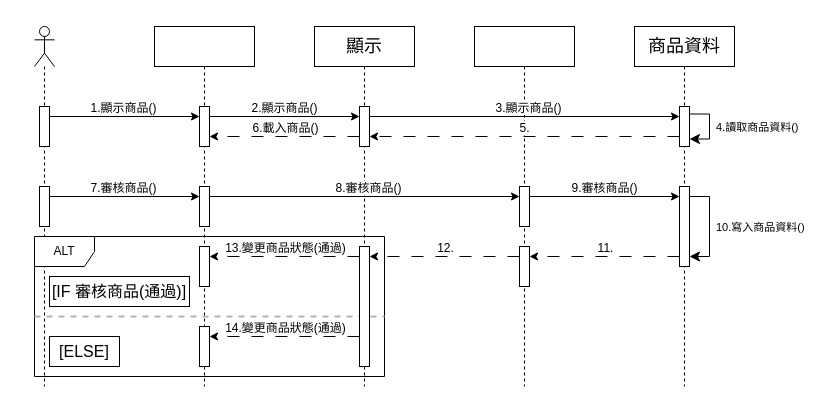
Some shapes in this 822 by 404 pixel diagram are drawn without their labels. The shapes that lost their labels are listed below. From the top down, each one's centre as x and y in pixels, then its label:
At (44,206): "使用者".
At (204,206): "使用者介面".
At (524,206): "審核".
